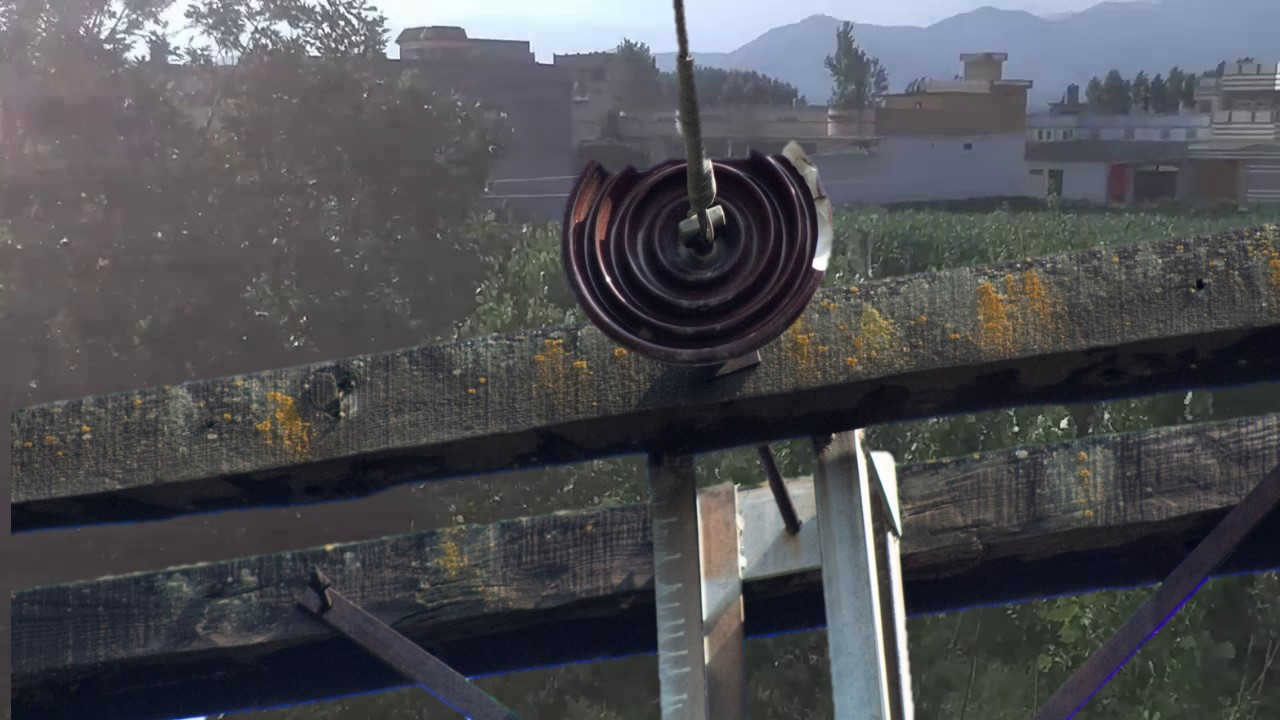defect_disc: (558, 129, 839, 380)
